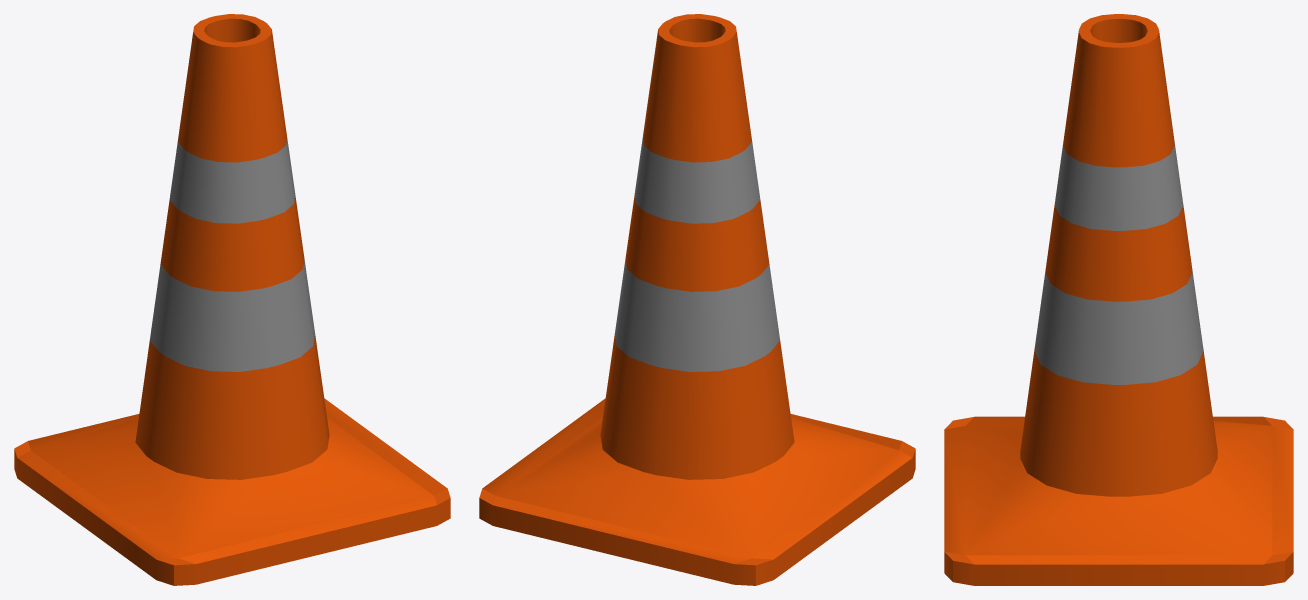
File: cono.fbx
3 renders of one model, left to right at view 1: azimuth 30°, elevation 25°; view 2: azimuth 150°, elevation 25°; view 3: azimuth 270°, elevation 25°, orthographic. The views are drawn at different scales.
Parts seen in each view (by area): view 1: Cube; view 2: Cube; view 3: Cube.
Boxes of the visible parts, x1,y1,x2,y2 form: Cube: (14, 14, 450, 585); Cube: (479, 14, 915, 585); Cube: (944, 14, 1293, 585).
Size of the model in its own units: 58.02 by 88.14 by 58.02.
